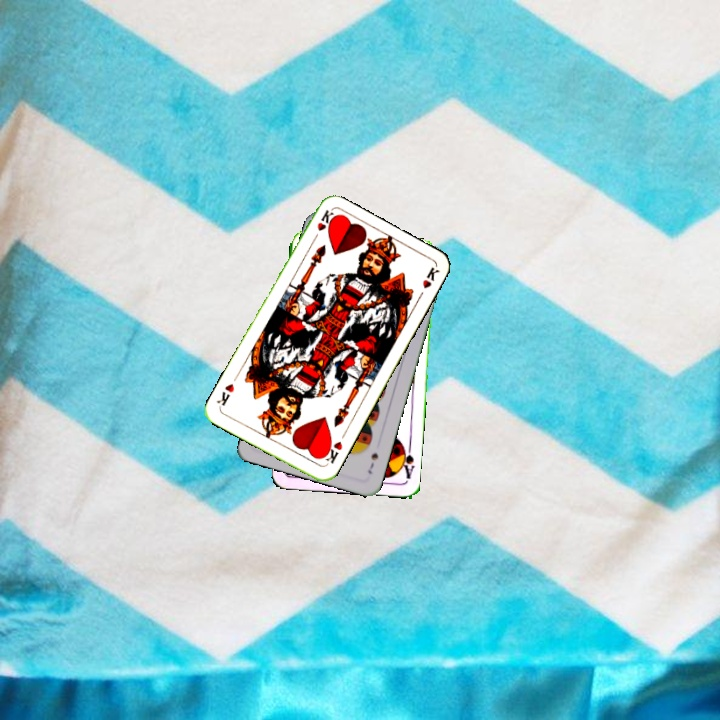HK: (308, 206, 336, 245), (318, 437, 345, 468)
S7: (363, 449, 381, 476)
SA: (396, 441, 417, 481)
